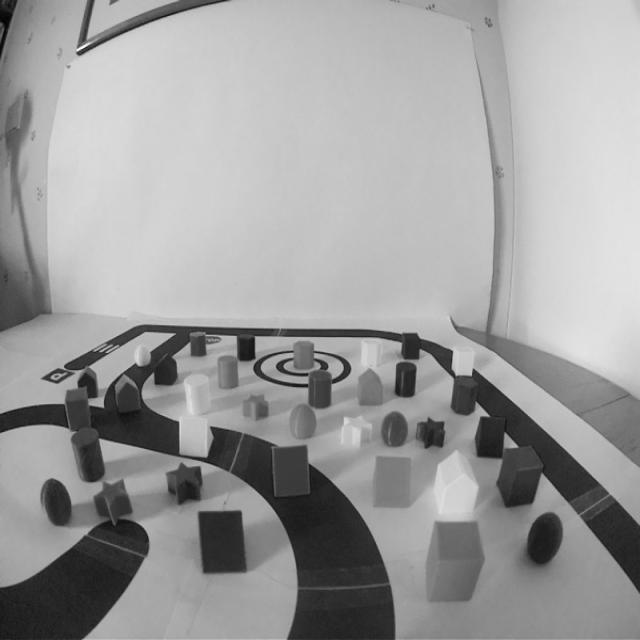ball: (524, 508, 565, 567), (40, 476, 74, 529), (288, 402, 321, 445), (379, 409, 411, 450), (134, 342, 152, 369)
cockade: (251, 348, 354, 391)
cube: (421, 516, 486, 608), (497, 441, 543, 508), (63, 386, 93, 434), (451, 342, 476, 378), (400, 329, 422, 361), (188, 327, 208, 361)
cylinder: (70, 424, 105, 485), (183, 372, 213, 417), (393, 358, 419, 402), (216, 352, 240, 393)
hexagon: (448, 371, 478, 417), (306, 364, 332, 412), (291, 338, 316, 374), (359, 334, 384, 366), (235, 330, 258, 364)
home: (432, 450, 481, 519), (356, 367, 385, 409), (113, 373, 141, 415), (152, 350, 180, 391), (76, 365, 100, 403)
laneLeftTurn: (259, 483, 404, 640)
star: (89, 476, 133, 530), (164, 459, 207, 506), (339, 412, 374, 453), (240, 388, 274, 426), (413, 415, 449, 449)
triangle: (195, 506, 252, 580), (269, 441, 314, 502), (369, 453, 413, 514), (176, 412, 215, 462), (474, 412, 506, 458)
